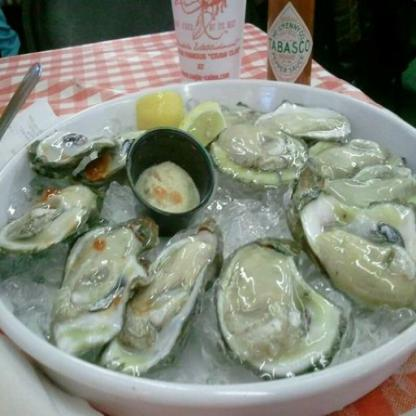oyster: (105, 224, 220, 379), (219, 237, 338, 375), (293, 186, 415, 306), (50, 221, 152, 360), (0, 186, 99, 254), (212, 125, 306, 184), (29, 132, 114, 179)
